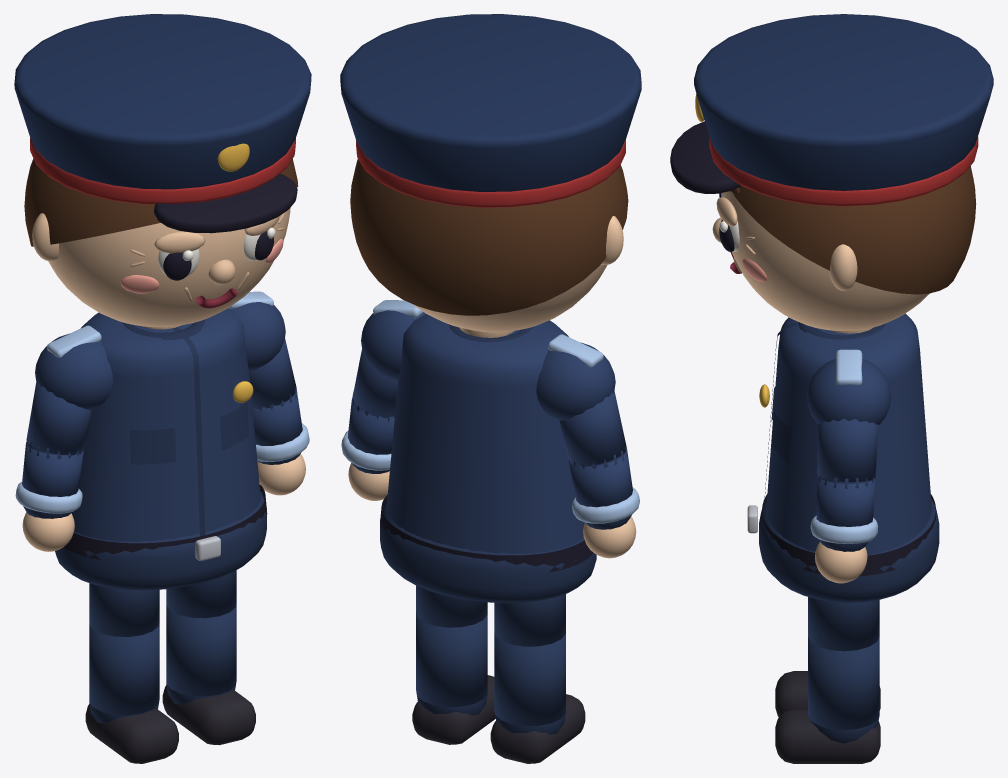
The model's file is ch_inspector.fbx.
The picture shows the model from 3 angles, left to right: view 1: azimuth 30°, elevation 25°; view 2: azimuth 150°, elevation 25°; view 3: azimuth 270°, elevation 25°; orthographic projection.
Parts seen in each view (by area): view 1: ch_inspector; view 2: ch_inspector; view 3: ch_inspector.
Part boxes in pixels (bbox=[...]): ch_inspector: bbox=[14, 14, 311, 763]; ch_inspector: bbox=[340, 14, 641, 763]; ch_inspector: bbox=[670, 14, 993, 763].
Bounding box in the file's own units: 0.6913 × 1.53 × 0.6754.
